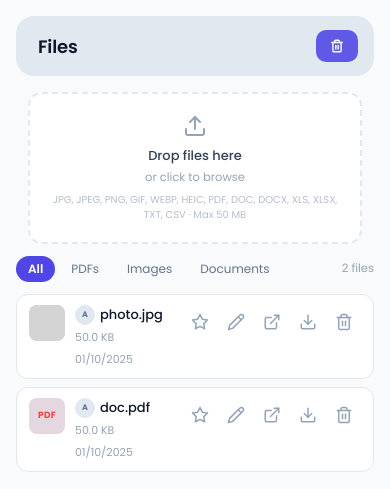
Test: FileManager › FE-COMP-FILEMANAGER-004: images tab filters to image files only
Expected: the text "photo.jpg" is shown, [100, 305, 163, 324]
Expected: the text "doc.pdf" is shown, [100, 398, 150, 418]
# Click Images filter tab
Click the button "Images": click(150, 269) [115, 256, 184, 282]
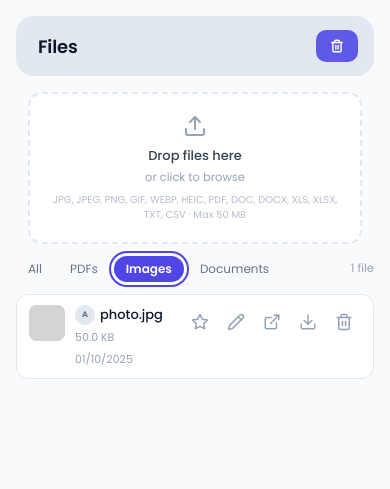
Expected: the text "photo.jpg" is shown, [100, 305, 163, 324]
Expected: the text "doc.pdf" is gone
